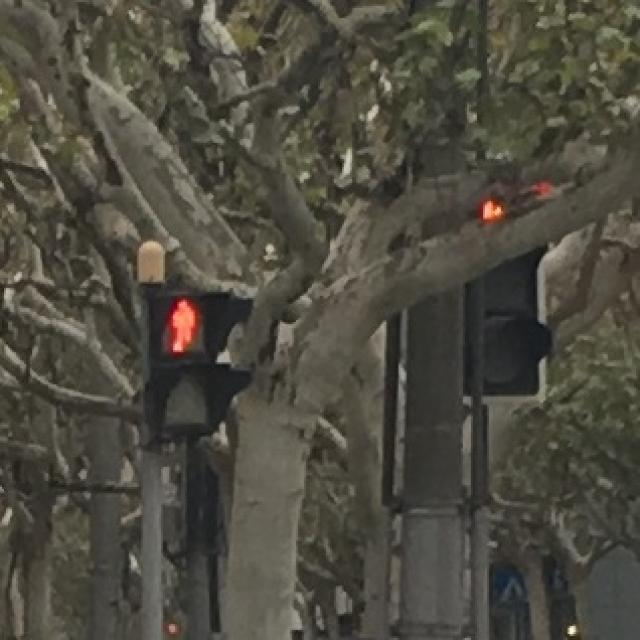red-crossing: (154, 290, 210, 354)
